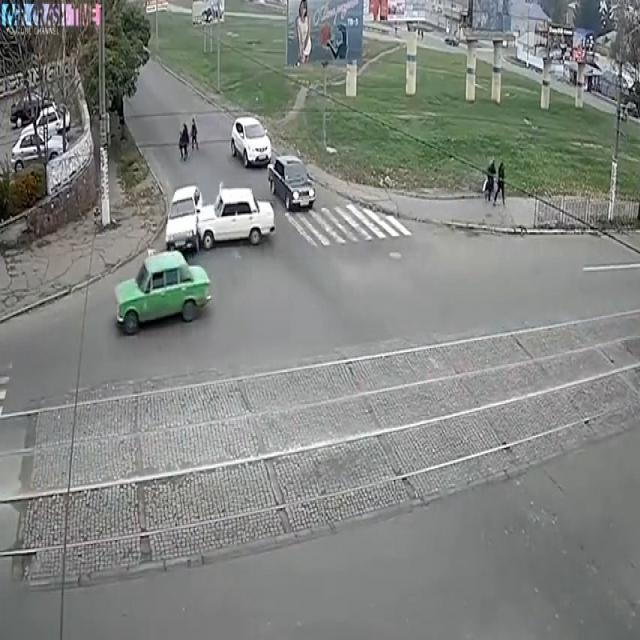Accident: (160, 160, 276, 266)
